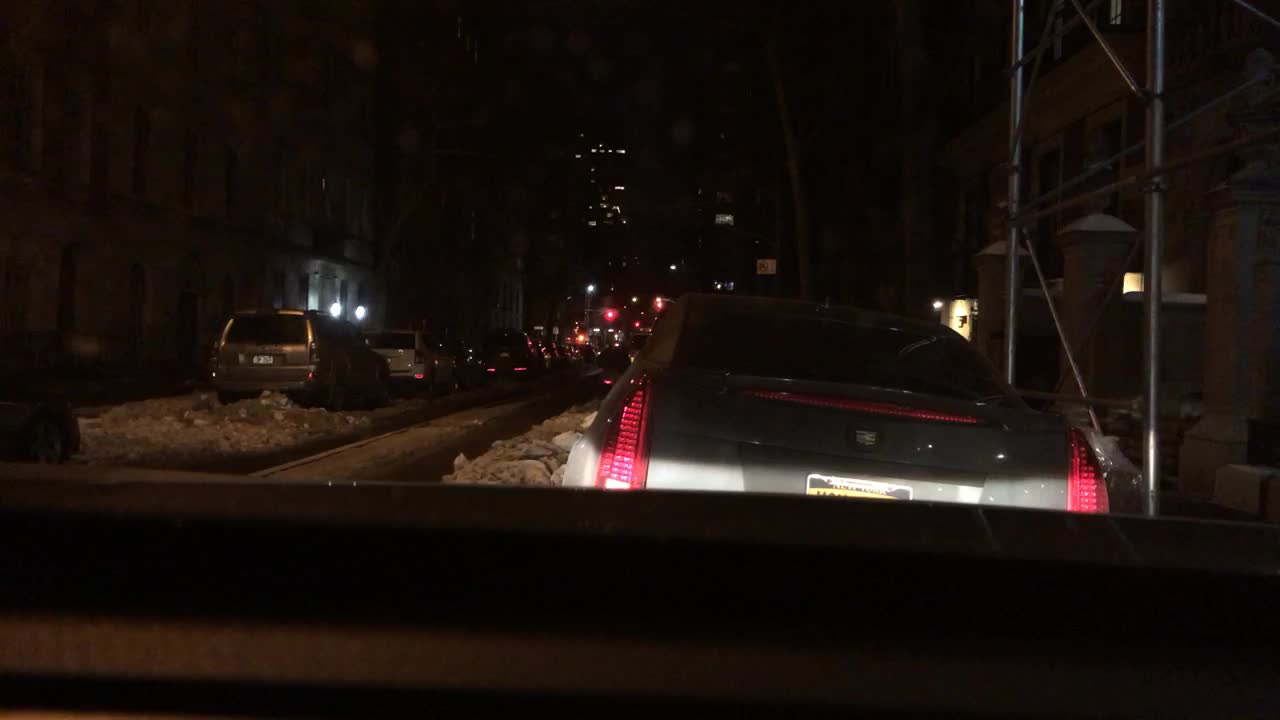car: (560, 290, 1144, 526), (208, 306, 391, 408), (0, 354, 81, 466), (368, 328, 456, 391), (487, 329, 541, 378), (442, 336, 489, 389), (627, 333, 650, 361), (541, 340, 561, 366), (560, 345, 580, 363), (580, 344, 596, 361)
traffic light: (600, 306, 616, 321), (656, 296, 663, 308)
traffic sign: (756, 258, 776, 274)
